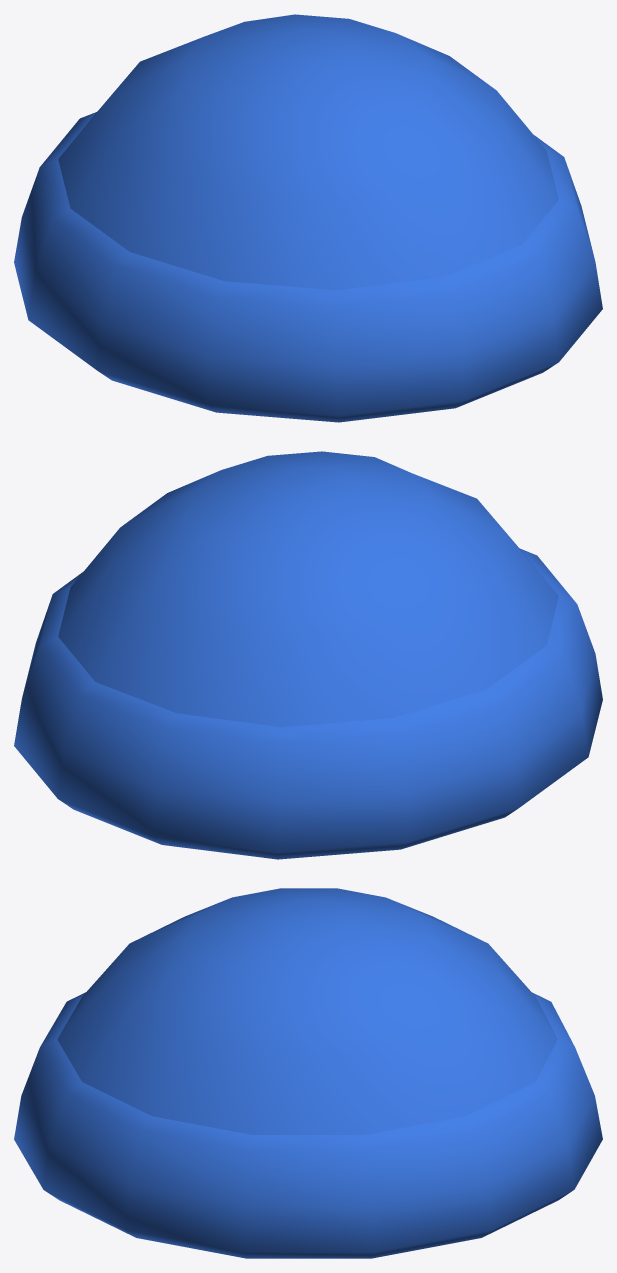
The model's file is Beanie.fbx.
The picture shows the model from 3 angles, top to bottom: view 1: azimuth 30°, elevation 25°; view 2: azimuth 150°, elevation 25°; view 3: azimuth 270°, elevation 25°; orthographic projection. The views are drawn at different scales.
Visible parts, largest first — view 1: Beanie; view 2: Beanie; view 3: Beanie.
Boxes of the visible parts, box(x1,y1,x2,y2) form: Beanie: box(14, 14, 602, 422); Beanie: box(14, 451, 602, 859); Beanie: box(14, 888, 602, 1258).
Bounding box in the file's own units: 88.73 × 43.74 × 97.93.
